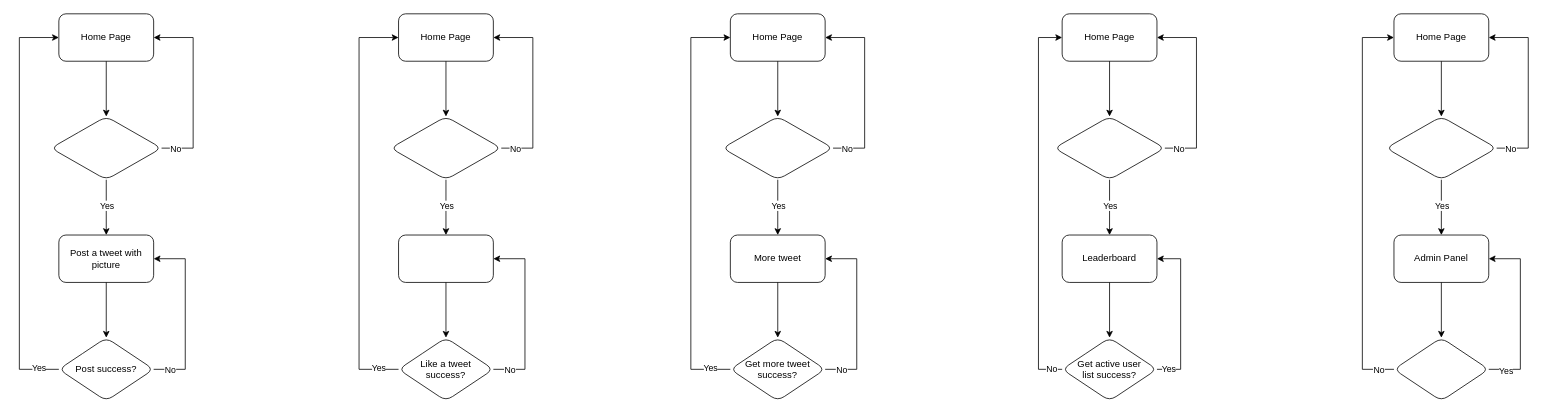
This 1548x415 diagram has some shape labels left out. The shapes that lost their labels are listed below. From the top down, each one's centre as x and y in pixels, then its label:
At point (106, 148): "Want to post a tweet with picture?".
At point (445, 148): "Want to interact with other tweet?".
At point (777, 148): "Want to see more tweet?".
At point (1109, 148): "Want to see active user list?".
At point (1441, 148): "Want to go to Admin Panel?".
At point (445, 258): "Like a tweet".
At point (1441, 369): "Go to Admin Panel success?".
